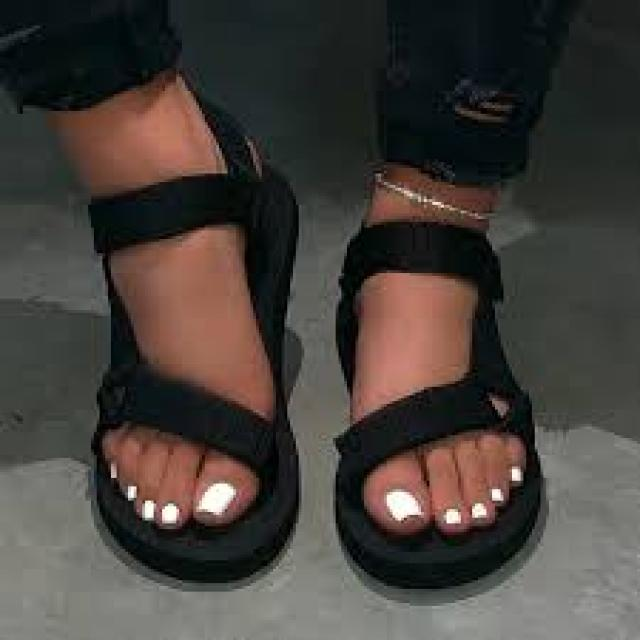Sandals: (54, 123, 302, 584), (327, 155, 542, 590)
